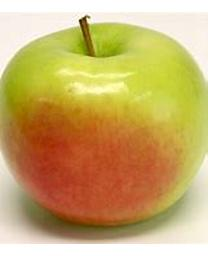apple: (0, 19, 207, 227)
